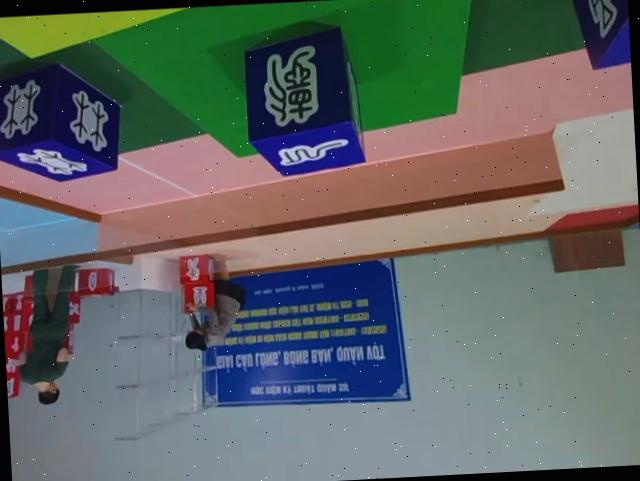R2 Fake Blue: (245, 21, 371, 177)
R2 Real Blue: (0, 55, 124, 187), (570, 0, 631, 69)
